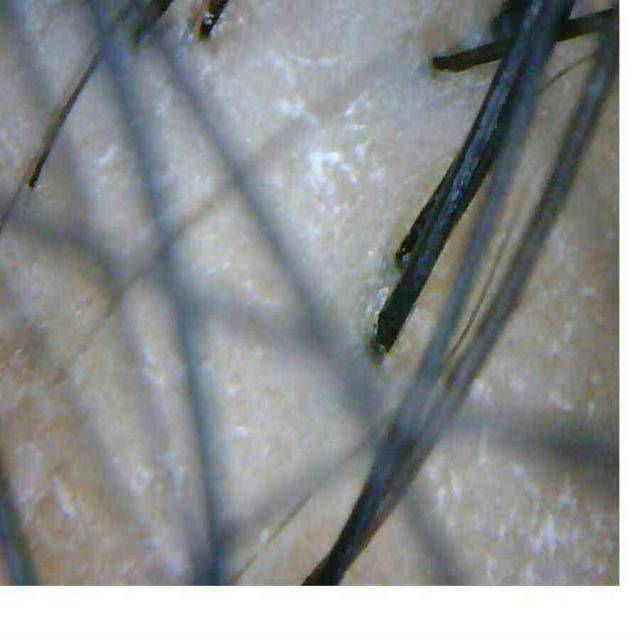ds: (250, 14, 345, 137)
o: (479, 453, 620, 587), (421, 434, 470, 543), (308, 151, 341, 196)
